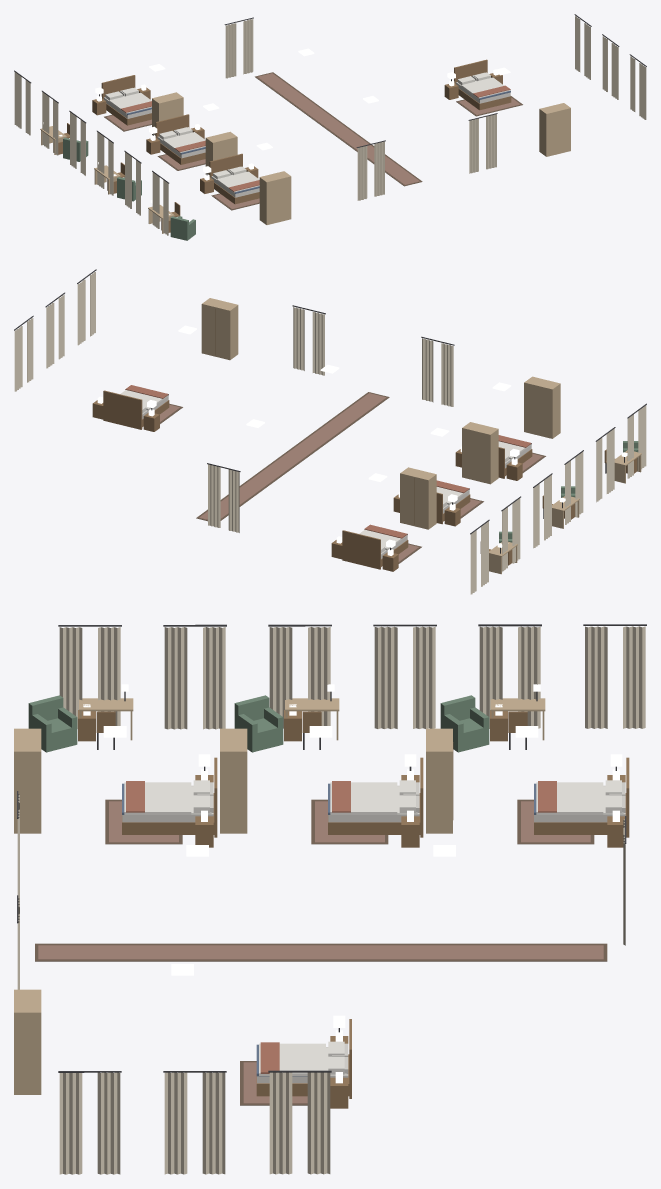
File: fine-s1.glb
The picture shows the model from 3 angles, top to bottom: view 1: azimuth 30°, elevation 25°; view 2: azimuth 150°, elevation 25°; view 3: azimuth 270°, elevation 25°; orthographic projection. The views are drawn at different scales.
Parts seen in each view (by area): view 1: soft-s1, dresser.003, dresser.000, bed-frame.000, bed-frame.002, bed-frame.001, bed-frame.003, dresser.002, dresser.001, lounge-chair.002; view 2: soft-s1, dresser.000, dresser.002, dresser.003, dresser.001, bed-frame.000, bed-frame.001, writing-desk.002, writing-desk.001; view 3: soft-s1, dresser.000, dresser.002, dresser.001, dresser.003, bed-frame.002, bed-frame.003, bed-frame.001, lounge-chair.002, lounge-chair.000, lounge-chair.001, bed-frame.000 (+3 smaller).
Part boxes in pixels (x1=…): soft-s1: x1=14, y1=14, x2=646, y2=235; dresser.003: x1=259, y1=171, x2=291, y2=224; dresser.000: x1=539, y1=103, x2=570, y2=156; bed-frame.000: x1=454, y1=59, x2=511, y2=110; bed-frame.002: x1=155, y1=114, x2=205, y2=164; bed-frame.001: x1=101, y1=75, x2=151, y2=125; bed-frame.003: x1=209, y1=153, x2=259, y2=204; dresser.002: x1=205, y1=131, x2=237, y2=174; dresser.001: x1=152, y1=92, x2=183, y2=135; lounge-chair.002: x1=170, y1=216, x2=195, y2=240; soft-s1: x1=14, y1=269, x2=646, y2=594; dresser.000: x1=201, y1=298, x2=238, y2=360; dresser.002: x1=462, y1=422, x2=498, y2=484; dresser.003: x1=524, y1=376, x2=560, y2=438; dresser.001: x1=400, y1=467, x2=436, y2=529; bed-frame.000: x1=103, y1=390, x2=169, y2=429; bed-frame.001: x1=342, y1=530, x2=408, y2=569; writing-desk.002: x1=614, y1=450, x2=641, y2=483; writing-desk.001: x1=552, y1=496, x2=579, y2=528; soft-s1: x1=17, y1=624, x2=646, y2=1174; dresser.000: x1=14, y1=989, x2=41, y2=1094; dresser.002: x1=220, y1=728, x2=247, y2=833; dresser.001: x1=426, y1=728, x2=453, y2=833; dresser.003: x1=14, y1=728, x2=41, y2=833; bed-frame.002: x1=328, y1=757, x2=423, y2=837; bed-frame.003: x1=122, y1=757, x2=217, y2=837; bed-frame.001: x1=534, y1=757, x2=629, y2=837; lounge-chair.002: x1=28, y1=695, x2=77, y2=752; lounge-chair.000: x1=440, y1=695, x2=489, y2=752; lounge-chair.001: x1=234, y1=695, x2=283, y2=752; bed-frame.000: x1=256, y1=1019, x2=351, y2=1098.
Bounding box in the file's own units: 23.35 × 2.56 × 13.95.
